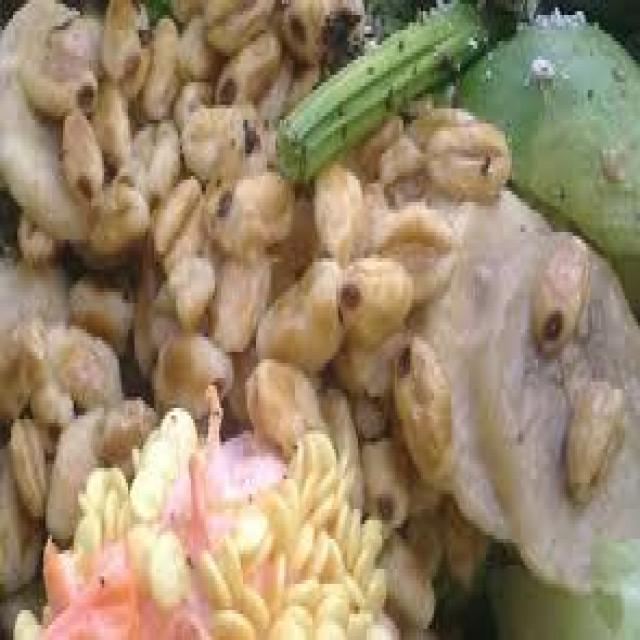food_waste: (34, 57, 600, 563)
